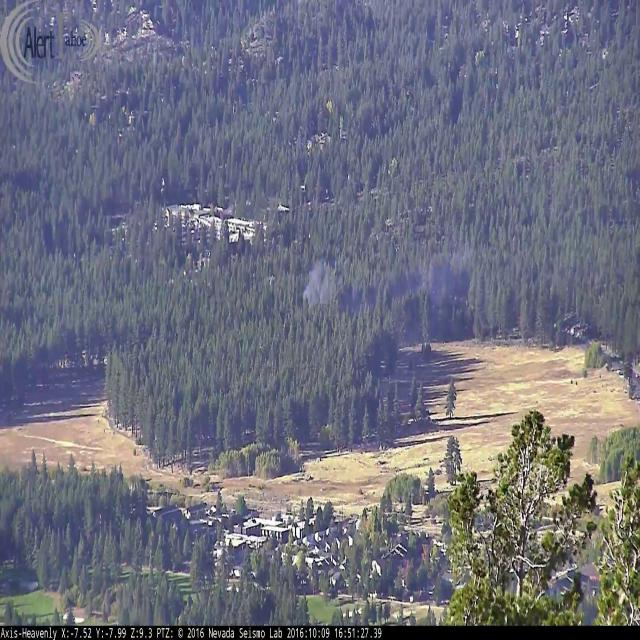smoke: (296, 250, 464, 318)
